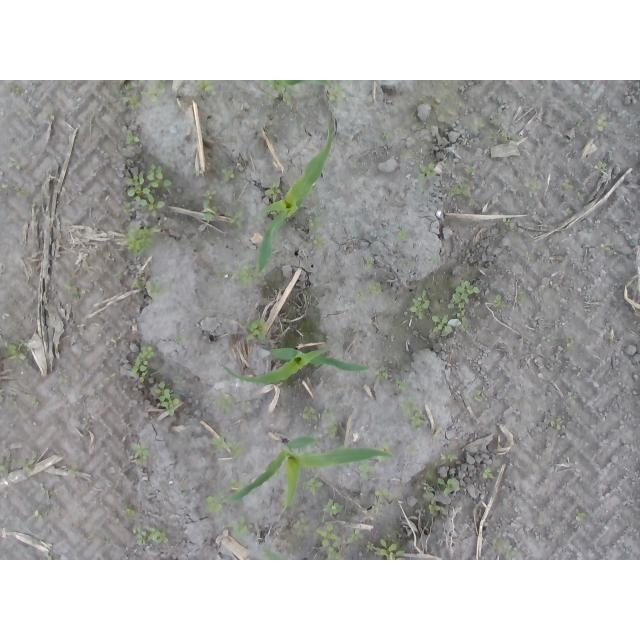Maize: (223, 436, 393, 513), (254, 117, 334, 276), (220, 347, 372, 383), (261, 80, 329, 90), (261, 548, 288, 561)
Weeds: (126, 158, 174, 197), (125, 225, 160, 258), (315, 524, 343, 561), (130, 346, 156, 383), (448, 279, 480, 309), (210, 433, 246, 459), (154, 382, 178, 417), (366, 538, 403, 560), (132, 525, 169, 547), (400, 397, 426, 428), (135, 194, 166, 218), (491, 119, 518, 145), (492, 537, 521, 560), (0, 338, 28, 361), (139, 81, 166, 104), (409, 289, 429, 319), (228, 516, 253, 540), (204, 492, 225, 517), (242, 319, 266, 340), (327, 80, 346, 106), (147, 278, 170, 299), (130, 442, 150, 466), (302, 473, 322, 496), (236, 264, 257, 285), (225, 209, 246, 229), (214, 391, 233, 413), (377, 442, 396, 463), (432, 315, 453, 334), (436, 477, 458, 495), (274, 83, 292, 105), (263, 182, 281, 203), (359, 458, 377, 478), (419, 162, 438, 180), (203, 201, 218, 222), (121, 95, 142, 110), (325, 499, 344, 515), (294, 517, 310, 535), (524, 180, 542, 196), (456, 309, 469, 331), (227, 478, 246, 493), (64, 284, 81, 300), (450, 184, 470, 197), (19, 458, 37, 472), (126, 130, 141, 146), (220, 167, 235, 182), (348, 529, 364, 543), (302, 405, 318, 419), (491, 295, 507, 309), (195, 81, 213, 92), (367, 280, 381, 294), (375, 489, 390, 502), (428, 499, 441, 514), (376, 366, 389, 381), (395, 227, 408, 242), (597, 115, 609, 131), (202, 188, 218, 200), (313, 234, 325, 250), (325, 423, 338, 437), (549, 417, 563, 430), (7, 158, 21, 171), (0, 459, 10, 477), (307, 216, 321, 228), (395, 379, 410, 390), (134, 276, 145, 291), (472, 390, 484, 403), (474, 117, 485, 131), (240, 397, 251, 411), (575, 508, 586, 522), (322, 408, 338, 417), (120, 202, 132, 214), (29, 510, 45, 519), (562, 179, 575, 190), (442, 454, 459, 462), (543, 334, 558, 343), (593, 162, 608, 171), (82, 414, 91, 429), (502, 217, 514, 228), (262, 89, 273, 101), (28, 397, 40, 408), (567, 392, 577, 405), (483, 467, 494, 478), (176, 333, 188, 343), (122, 506, 135, 515), (67, 467, 81, 475), (45, 111, 56, 121), (561, 208, 573, 217), (215, 267, 225, 277), (566, 337, 575, 348), (419, 188, 430, 197), (371, 501, 379, 513), (357, 289, 365, 301), (410, 444, 420, 453), (518, 292, 527, 302), (601, 242, 611, 251), (467, 167, 478, 175), (269, 209, 283, 215), (41, 487, 50, 496), (427, 256, 437, 264), (423, 487, 434, 494), (367, 257, 374, 268), (382, 130, 391, 138), (524, 250, 532, 259), (14, 86, 22, 95), (125, 84, 134, 91), (352, 159, 358, 169), (46, 552, 53, 560)
